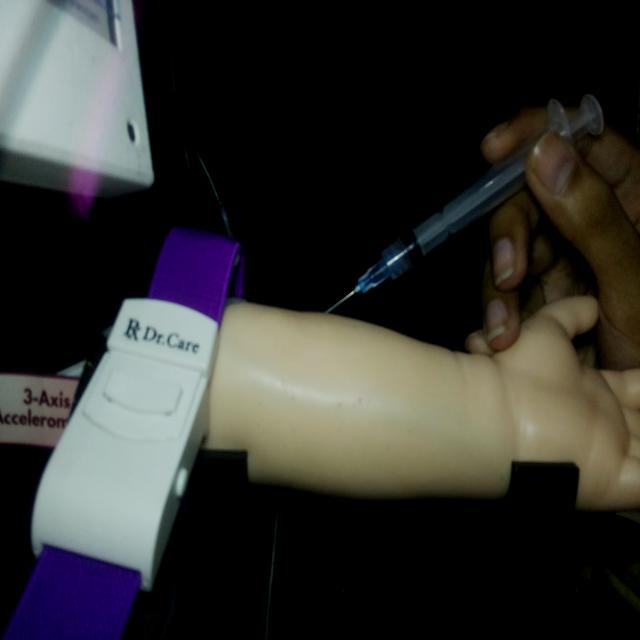27 degrees: (323, 89, 605, 316)
